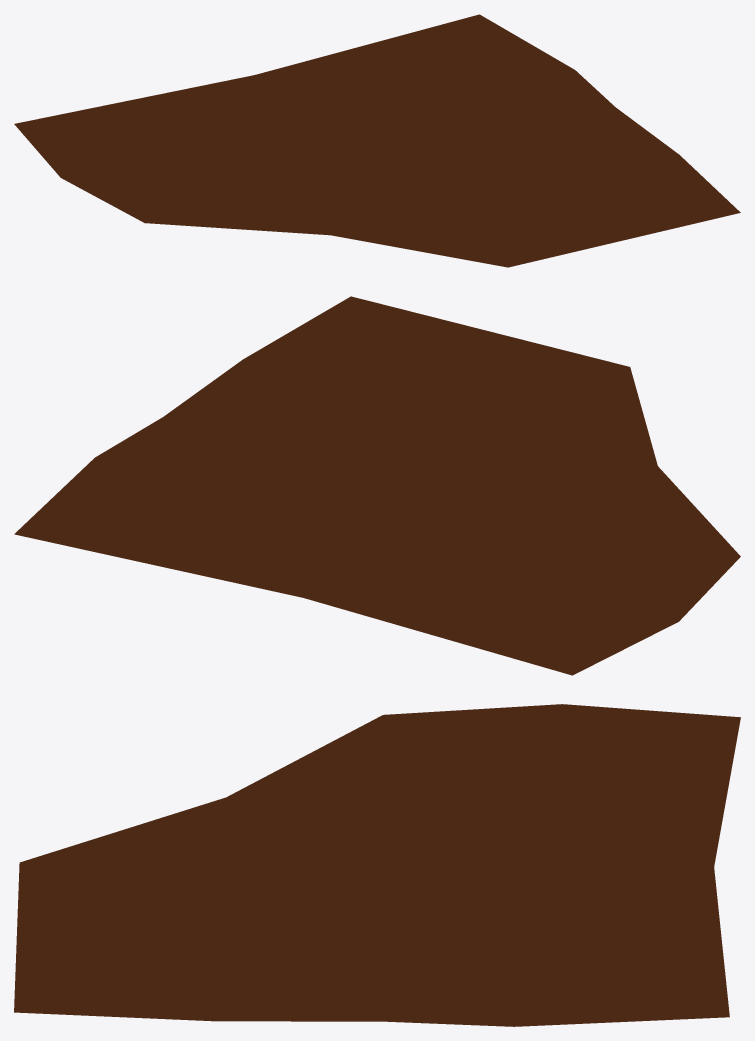
Rendered from SM_blanket.FBX.
3 views of the same model, one above another, from view 1: azimuth 30°, elevation 25°; view 2: azimuth 150°, elevation 25°; view 3: azimuth 270°, elevation 25° (orthographic). The views are drawn at different scales.
Visible parts, largest first — view 1: blanket; view 2: blanket; view 3: blanket.
Part boxes in pixels (bbox=[...]): blanket: bbox=[14, 14, 740, 267]; blanket: bbox=[14, 296, 740, 675]; blanket: bbox=[14, 704, 740, 1026].
Size of the model in its own units: 129 by 7.5e-15 by 122.
